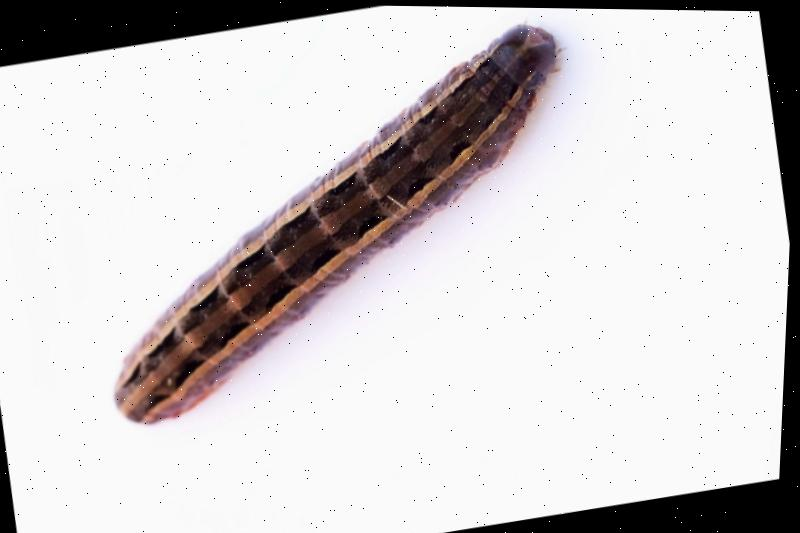fall-armyworm: (118, 20, 564, 424)
